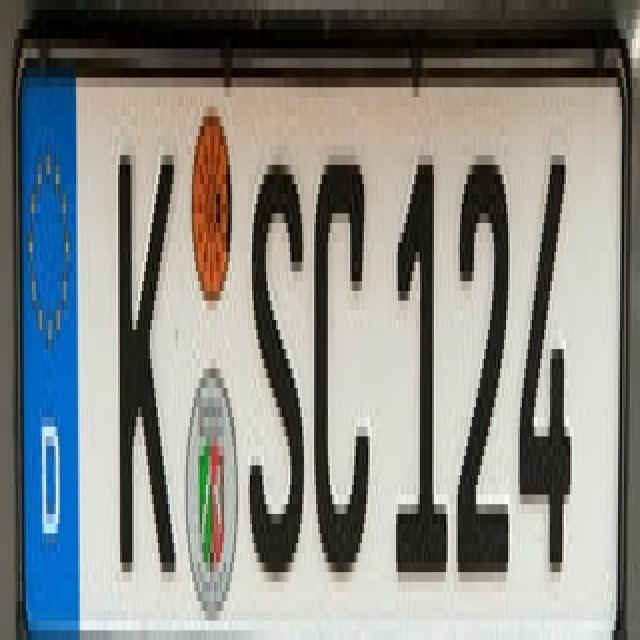Allemagne: (18, 58, 80, 630)
EU: (19, 69, 628, 630)
